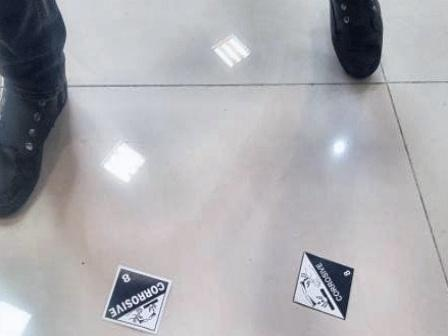corrosive: (293, 251, 355, 318), (104, 269, 168, 333)
